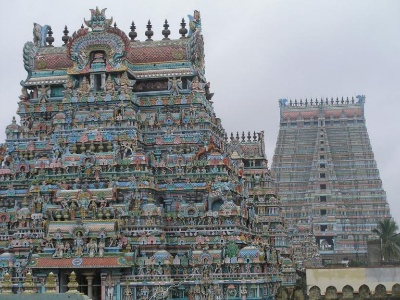gopura: (9, 39, 254, 266), (259, 95, 393, 266)
